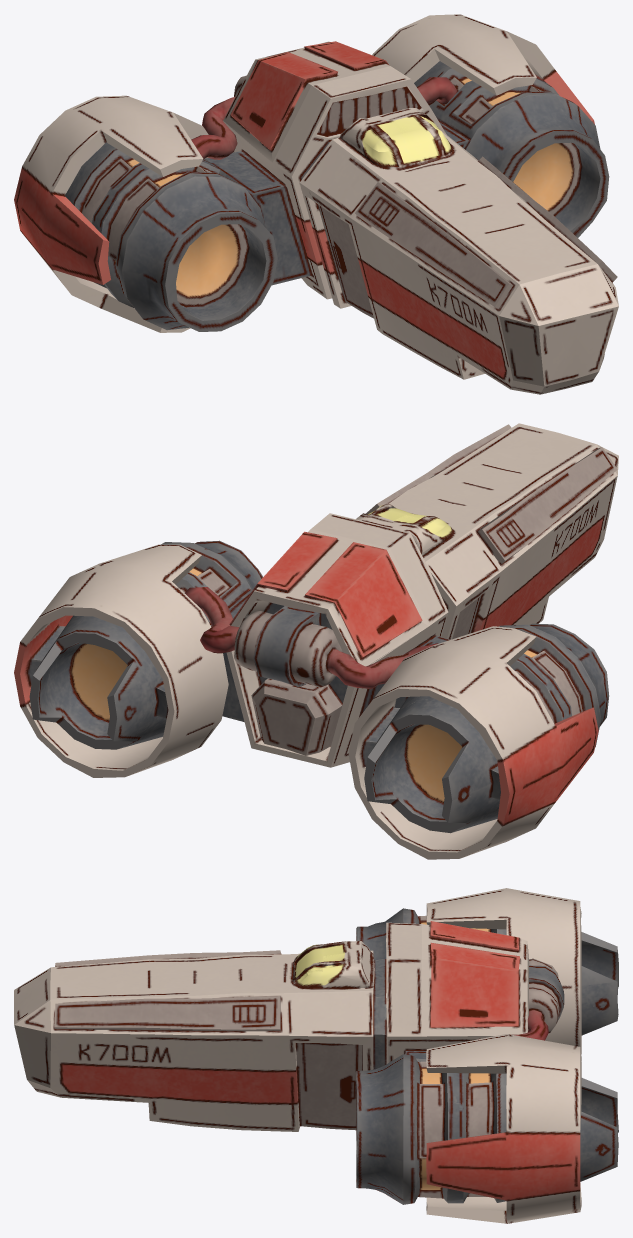
File: Ship_test.fbx
The picture shows the model from 3 angles, top to bottom: view 1: azimuth 30°, elevation 25°; view 2: azimuth 150°, elevation 25°; view 3: azimuth 270°, elevation 25°; orthographic projection. The views are drawn at different scales.
Parts seen in each view (by area): view 1: Ship; view 2: Ship; view 3: Ship.
Boxes of the visible parts, x1,y1,x2,y2 form: Ship: (14, 14, 618, 394); Ship: (14, 423, 618, 859); Ship: (14, 888, 618, 1223).
Size of the model in its own units: 887 by 375 by 1002.
